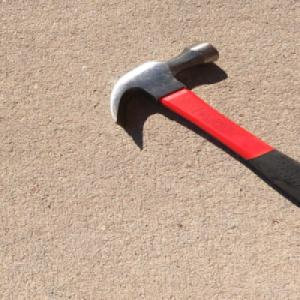Hammer: (105, 39, 300, 210)
